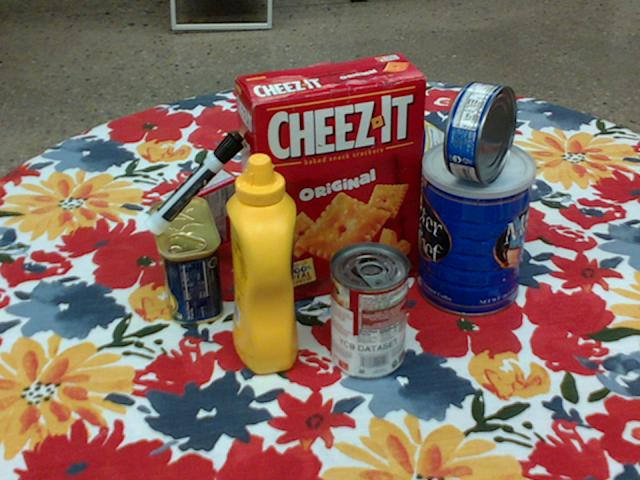cracker_box: (236, 53, 428, 305)
gelatin_box: (157, 169, 240, 265)
large_marker: (145, 132, 245, 234)
master_chef_can: (420, 138, 534, 318)
mug: (297, 121, 381, 220)
mustard_bottle: (227, 153, 297, 374)
potted_meat_can: (150, 197, 223, 325)
sugar_box: (354, 91, 508, 237)
tomato_soup_can: (329, 242, 409, 380)
tuna_fish_can: (446, 82, 517, 183)
